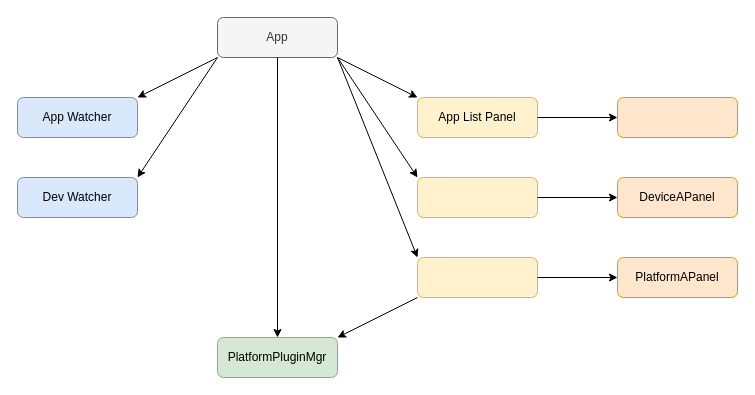
Image size: 755x395. Some labels were removed from this diagram. Each missing label, with the centre of its shape:
Dev List Panel: (477,197)
GWebAppAPanel: (677,117)
Platform List Panel: (477,277)
